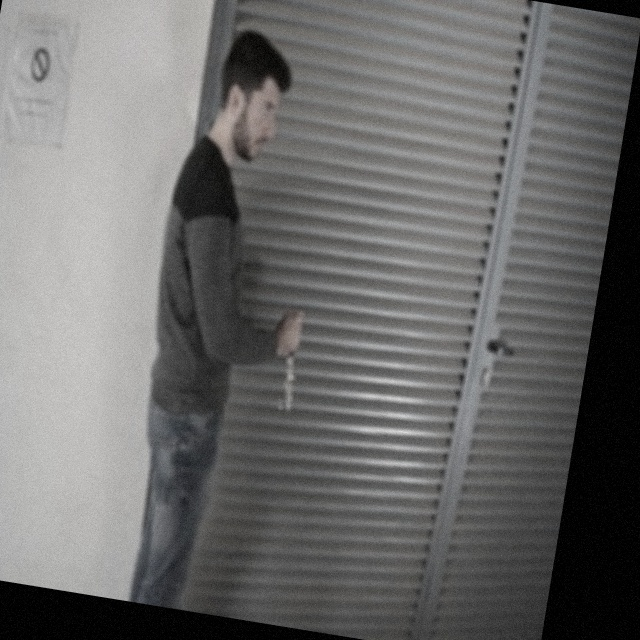Sharp-Object: (279, 353, 299, 411)
